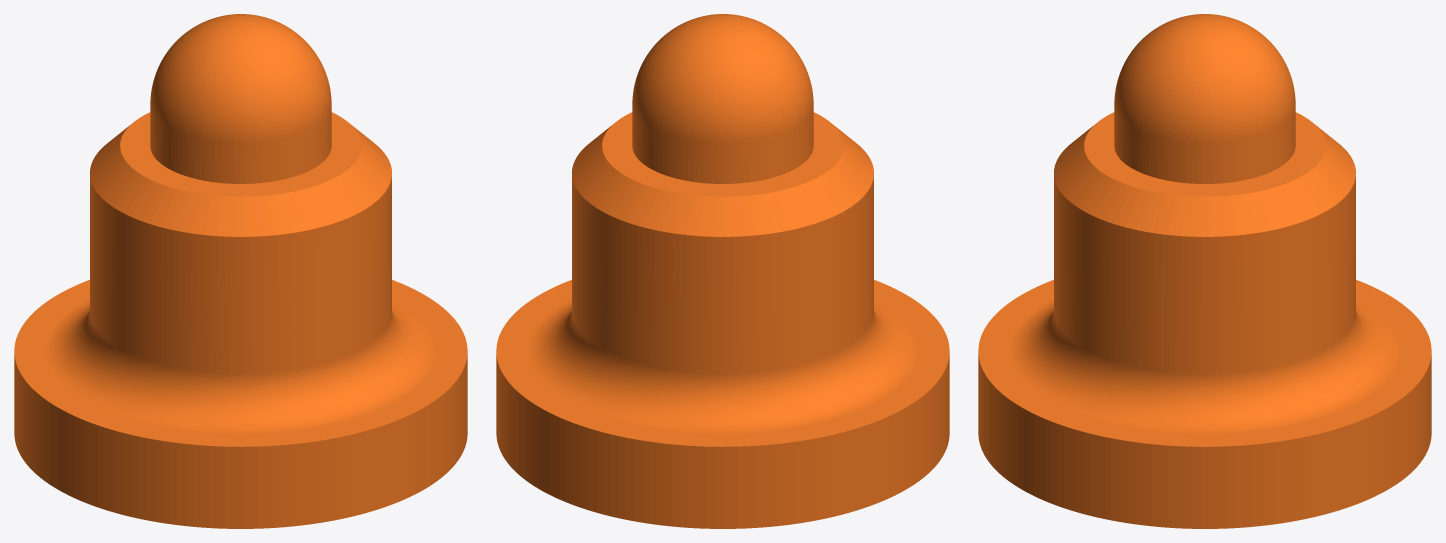
Rendered from cncLathe.glb.
3 renders of one model, left to right at view 1: azimuth 30°, elevation 25°; view 2: azimuth 150°, elevation 25°; view 3: azimuth 270°, elevation 25°, orthographic.
Size of the model in its own units: 60 by 60 by 60.
